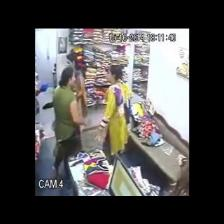person: (96, 66, 131, 162), (53, 68, 83, 177), (74, 72, 87, 117)
